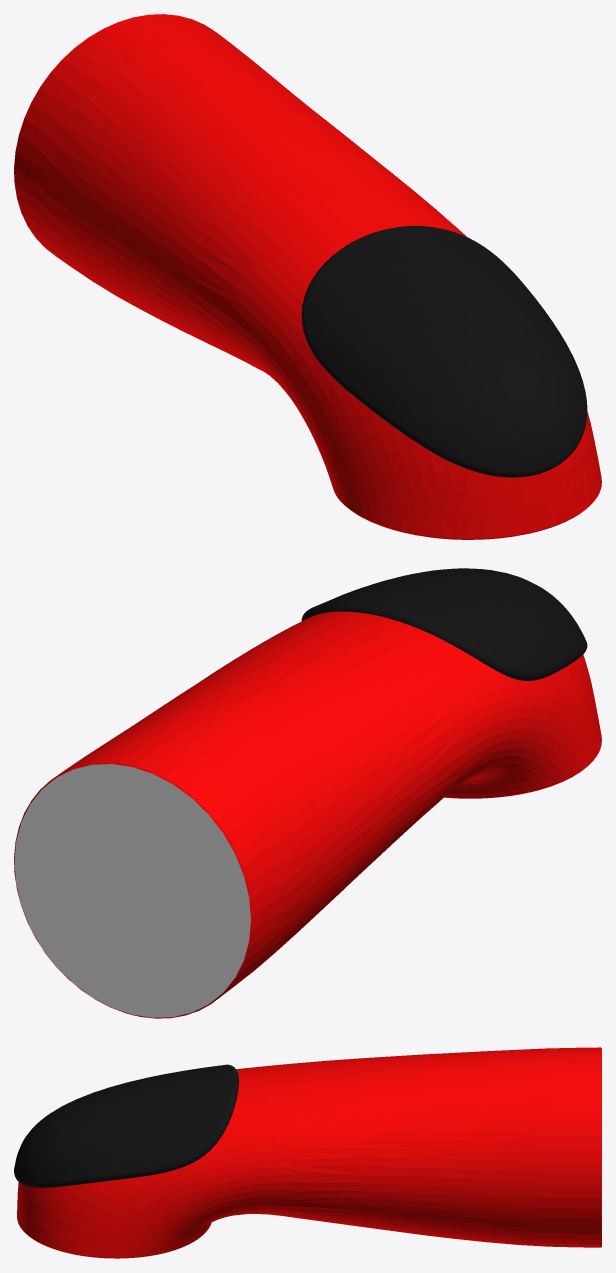
The model's file is right_l2_visuals_mesh_0.obj.
3 views of the same model, one above another, from view 1: azimuth 30°, elevation 25°; view 2: azimuth 150°, elevation 25°; view 3: azimuth 270°, elevation 25° (orthographic). The views are drawn at different scales.
Bounding box in the file's own units: 0.1065 × 0.1065 × 0.3125.
